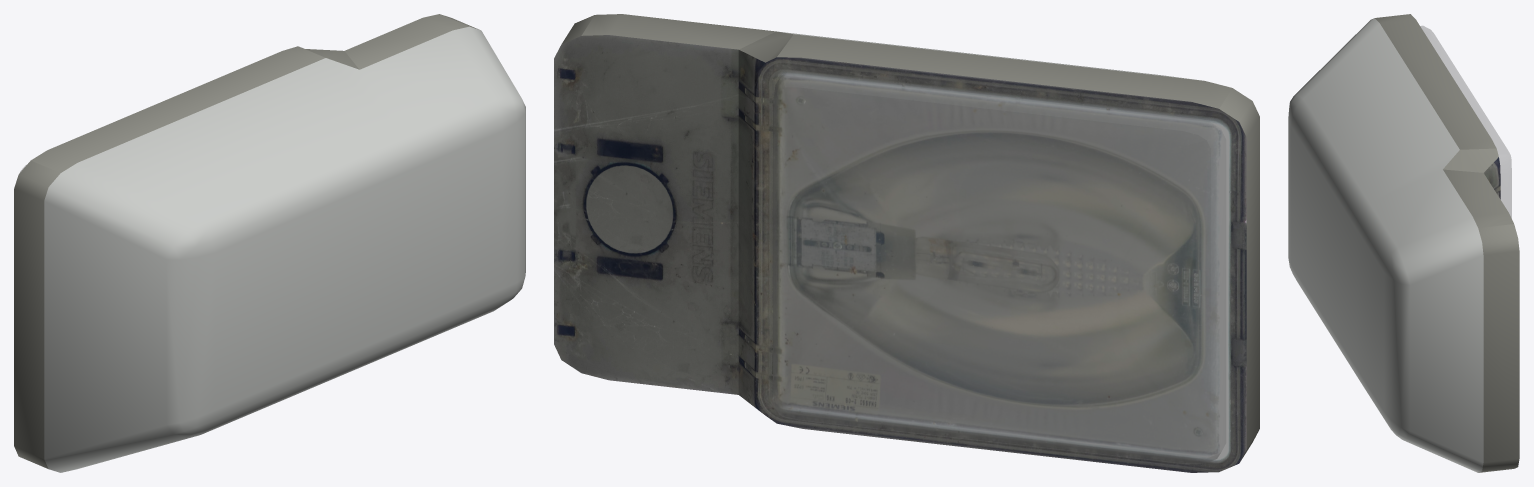
3 views of the same model, side by side, from view 1: azimuth 30°, elevation 25°; view 2: azimuth 150°, elevation 25°; view 3: azimuth 270°, elevation 25° (orthographic). The views are drawn at different scales.
Visible parts, largest first — view 1: SL_100; view 2: SL_100, Glas; view 3: SL_100, Glas.
Part boxes in pixels (x1,y1,x2,y2): SL_100: (14,14,525,472); SL_100: (554,14,1259,472); Glas: (773,73,1225,463); SL_100: (1288,14,1519,472); Glas: (1420,26,1511,218).
Bounding box in the file's own units: 0.5997 × 0.34 × 0.2644.
4 materials, 3 textured.
